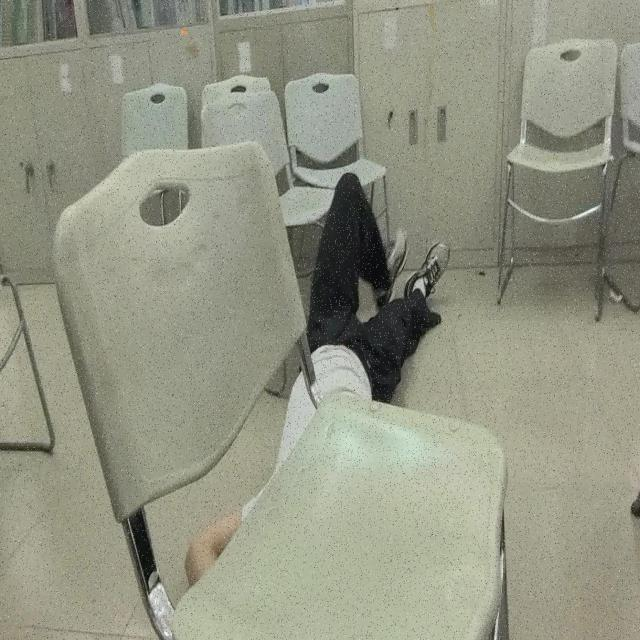fall: (180, 166, 453, 611)
